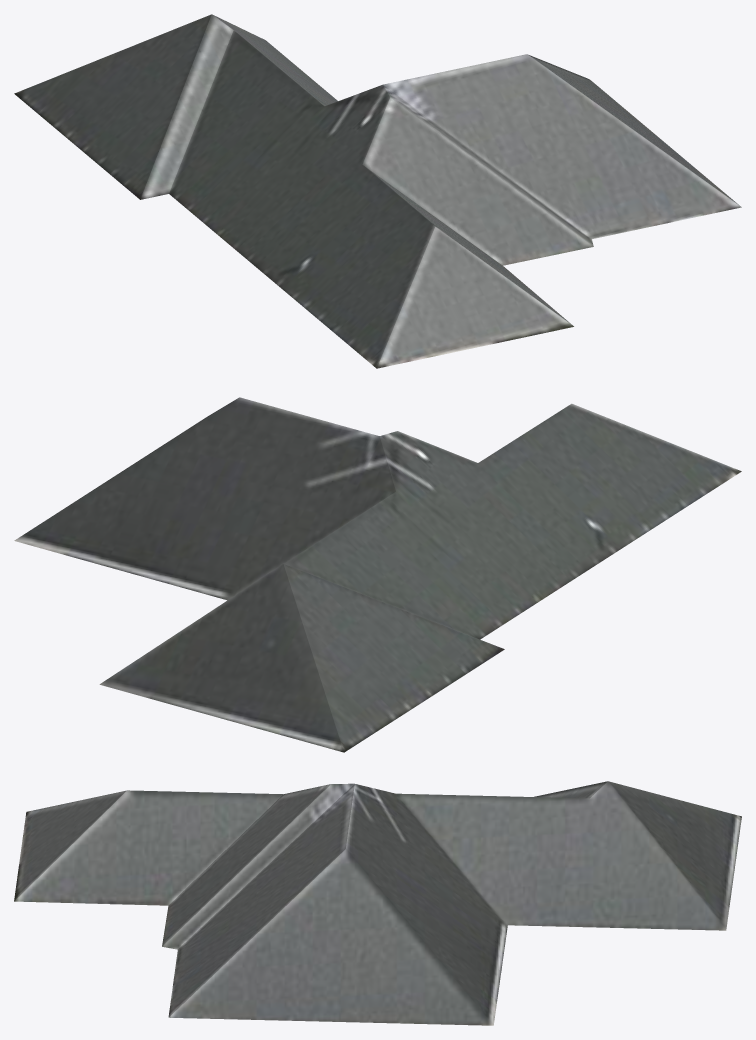
Rendered from CG10_500_041066_0018_roof.obj.
3 renders of one model, top to bottom at view 1: azimuth 30°, elevation 25°; view 2: azimuth 150°, elevation 25°; view 3: azimuth 270°, elevation 25°, orthographic. The views are drawn at different scales.
Parts seen in each view (by area): view 1: CG10_500_041066_0018_roof; view 2: CG10_500_041066_0018_roof; view 3: CG10_500_041066_0018_roof.
Boxes of the visible parts, x1,y1,x2,y2 form: CG10_500_041066_0018_roof: (14, 14, 741, 368); CG10_500_041066_0018_roof: (14, 397, 741, 752); CG10_500_041066_0018_roof: (14, 781, 741, 1025).
Size of the model in its own units: 292 by 70 by 415.
1 material, 1 textured.
